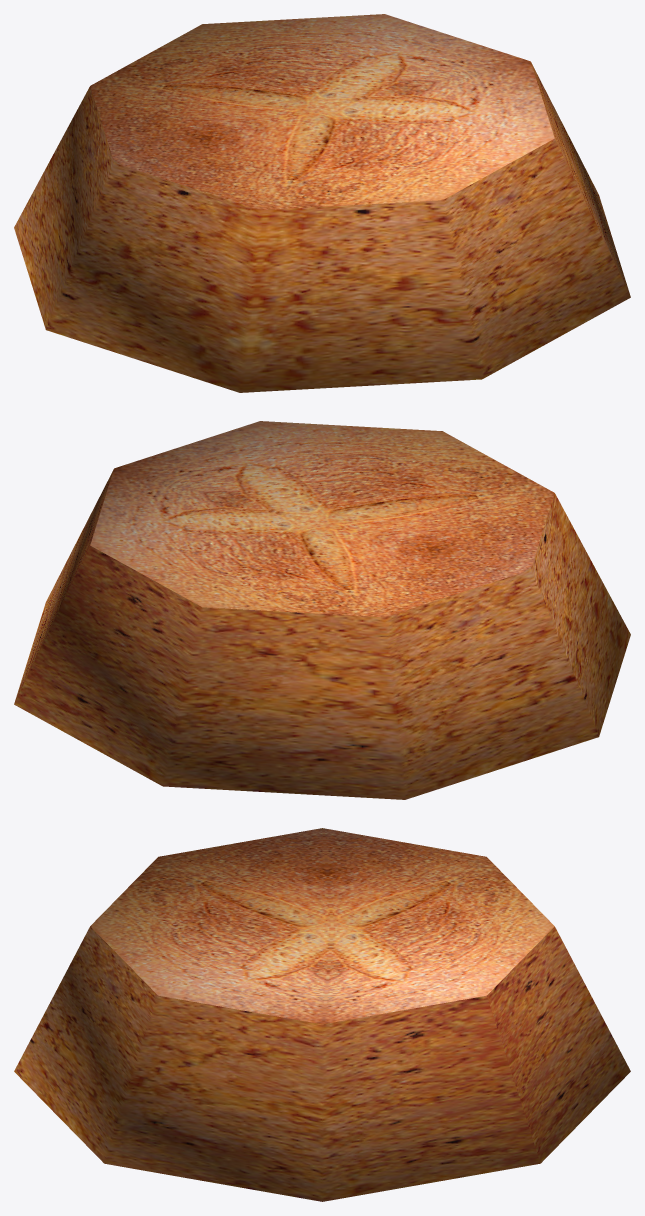
Rendered from Prop_SM_Bread.fbx.
3 renders of one model, top to bottom at view 1: azimuth 30°, elevation 25°; view 2: azimuth 150°, elevation 25°; view 3: azimuth 270°, elevation 25°, orthographic. The views are drawn at different scales.
Parts seen in each view (by area): view 1: Bread; view 2: Bread; view 3: Bread.
Part boxes in pixels (bbox=[...]): Bread: bbox=[14, 14, 630, 392]; Bread: bbox=[14, 421, 630, 799]; Bread: bbox=[14, 828, 630, 1201].
Size of the model in its own units: 0.2394 by 0.0622 by 0.2394.
